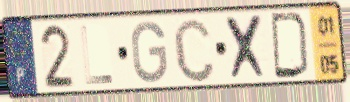2: (38, 21, 77, 92)
C: (170, 15, 217, 85)
D: (268, 10, 312, 81)
G: (129, 19, 169, 86)
L: (78, 23, 116, 87)
X: (223, 12, 271, 83)
